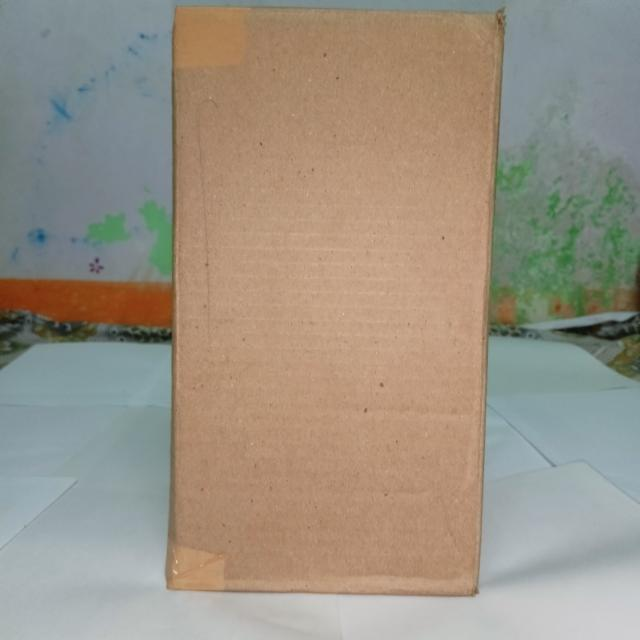box: (165, 9, 508, 601)
